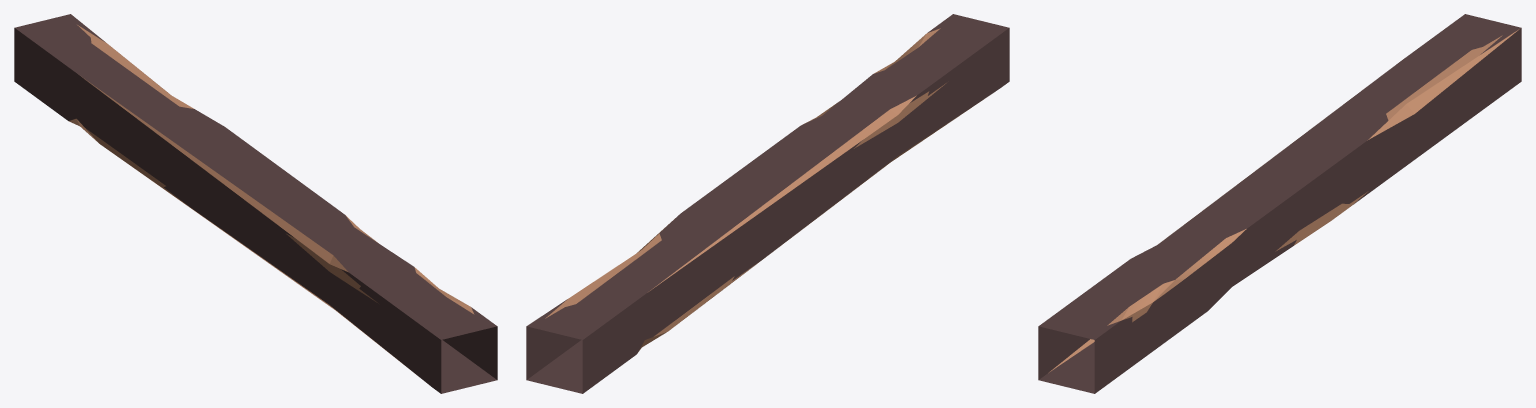
The model's file is builder_56.FBX.
3 views of the same model, side by side, from view 1: azimuth 30°, elevation 25°; view 2: azimuth 150°, elevation 25°; view 3: azimuth 330°, elevation 25° (orthographic).
Parts seen in each view (by area): view 1: builder_56; view 2: builder_56; view 3: builder_56.
Boxes of the visible parts, x1,y1,x2,y2 form: builder_56: (14, 14, 497, 393); builder_56: (526, 14, 1009, 393); builder_56: (1038, 14, 1521, 393).
Bounding box in the file's own units: 9.05 × 8.28 × 119.
